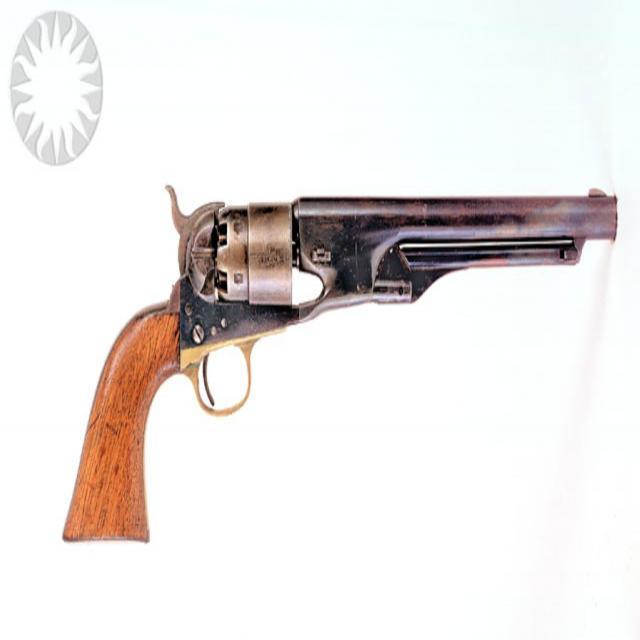weapon: (62, 190, 607, 520)
